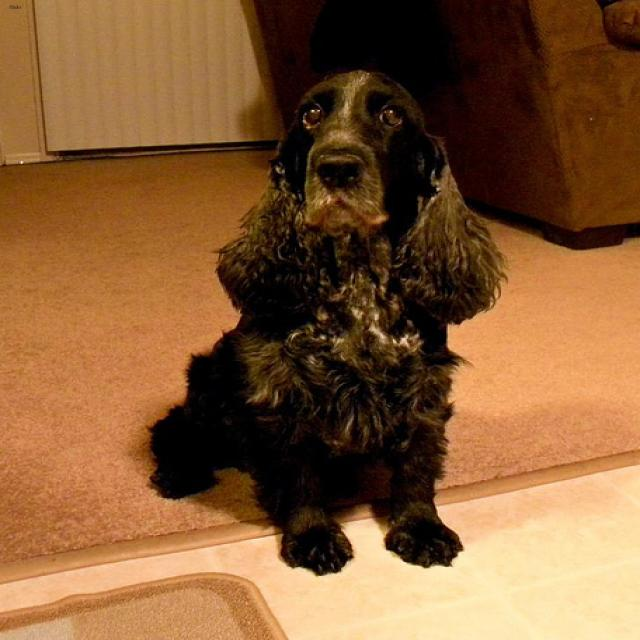dog-english_cocker_spaniel: (133, 56, 522, 585)
